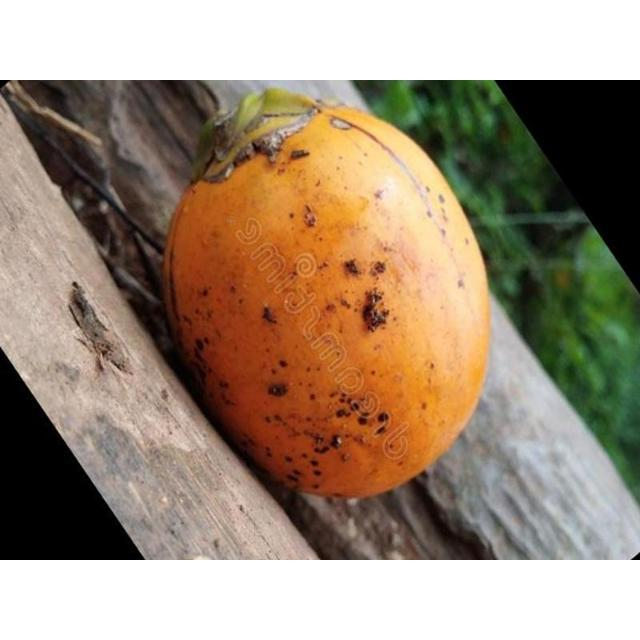good: (164, 88, 490, 497)
